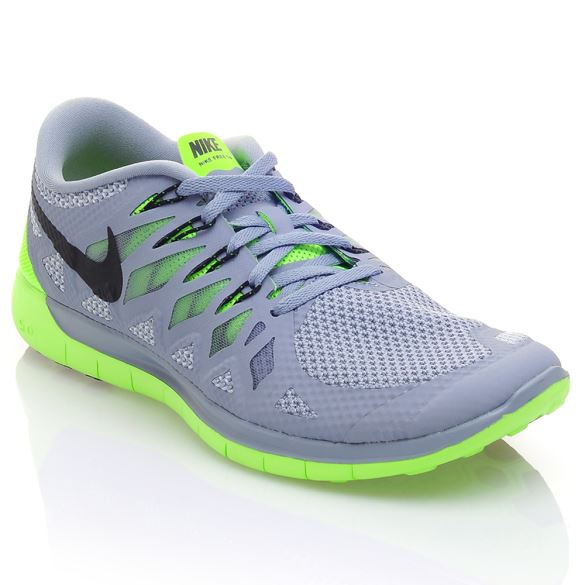nike: (30, 195, 128, 304)
